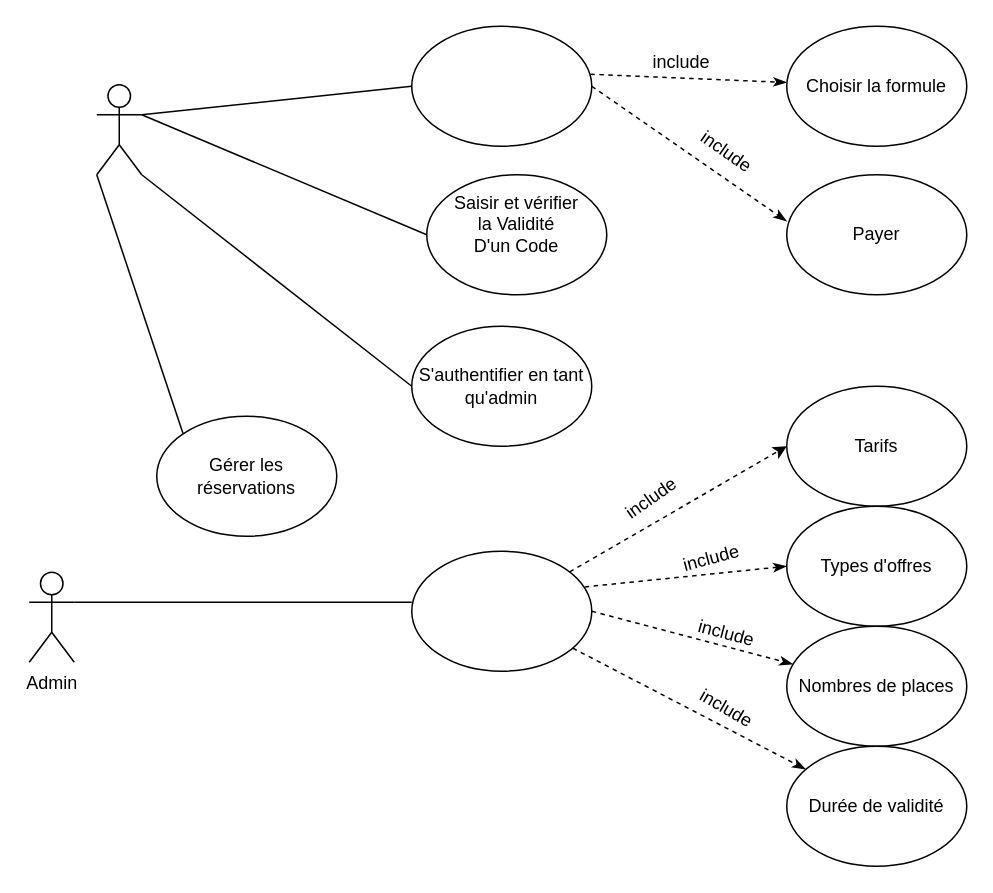
This 993x893 diagram has some shape labels left out. Each missing label, with the centre of its shape:
"Acheter Un Code" goes at (x=501, y=85).
"Définir les offres" goes at (x=501, y=610).
"User" goes at (x=118, y=129).
